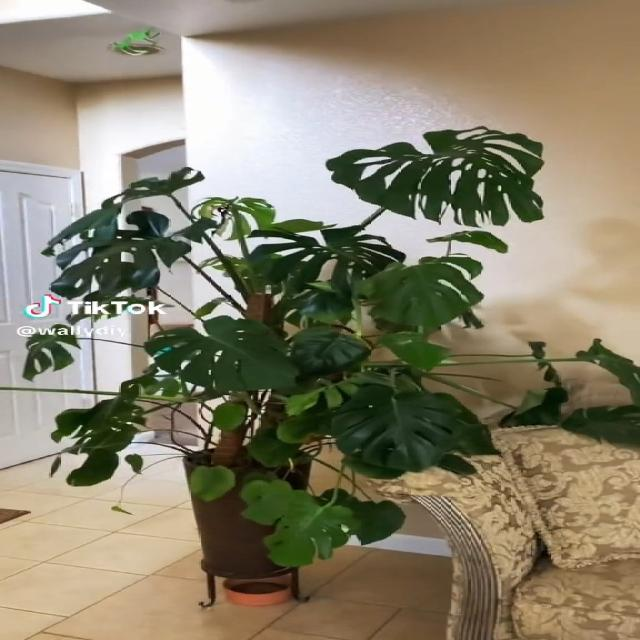roslina_zdrowa: (40, 127, 640, 567)
